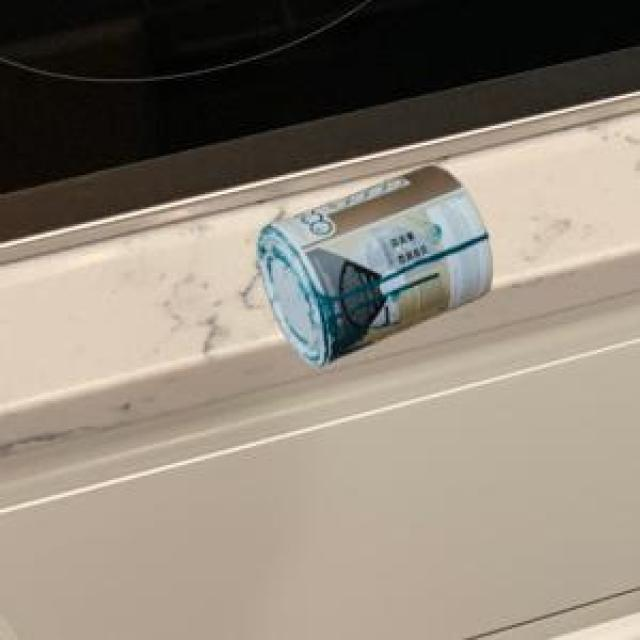logam: (255, 163, 490, 364)
